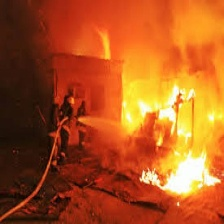fire: (135, 87, 200, 146), (141, 151, 222, 195)
smoke: (14, 1, 220, 83)
